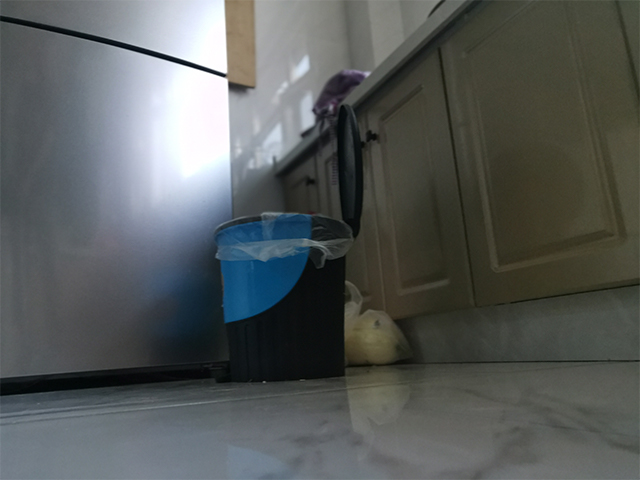cabinet: (374, 1, 640, 363)
trashcan: (203, 103, 366, 385)
